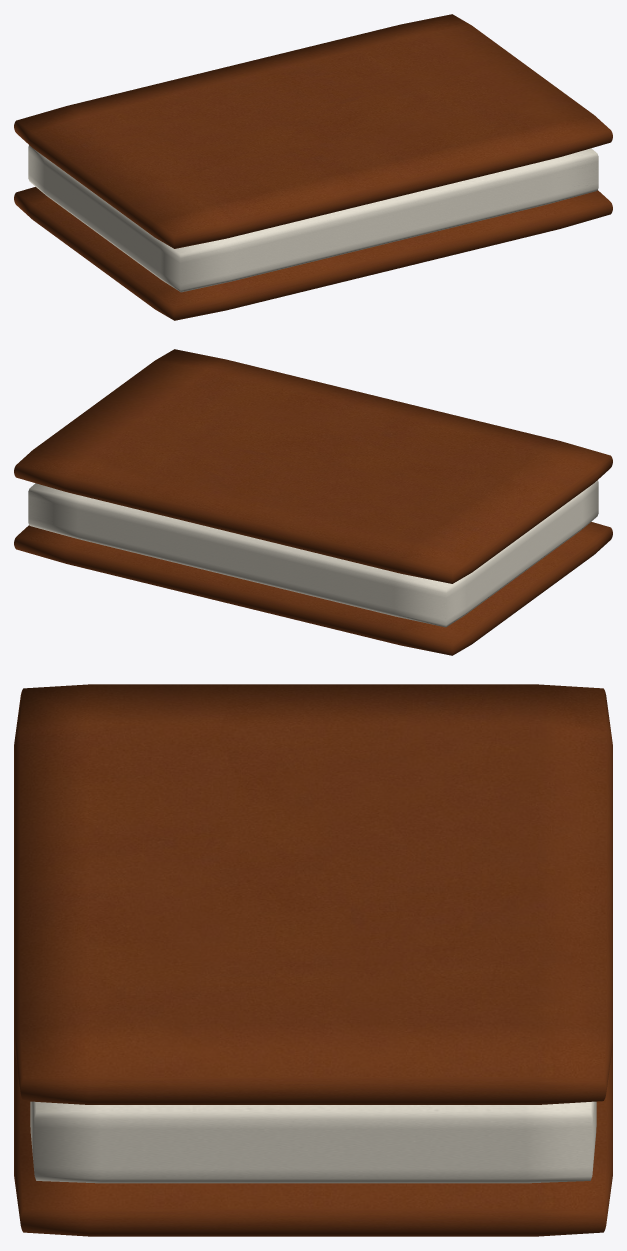
Rendered from library_book_3.glb.
3 renders of one model, top to bottom at view 1: azimuth 30°, elevation 25°; view 2: azimuth 150°, elevation 25°; view 3: azimuth 270°, elevation 25°, orthographic. The views are drawn at different scales.
Bounding box in the file's own units: 2.31 × 0.466 × 1.47.
Materials: 2 (2 with a texture image).
